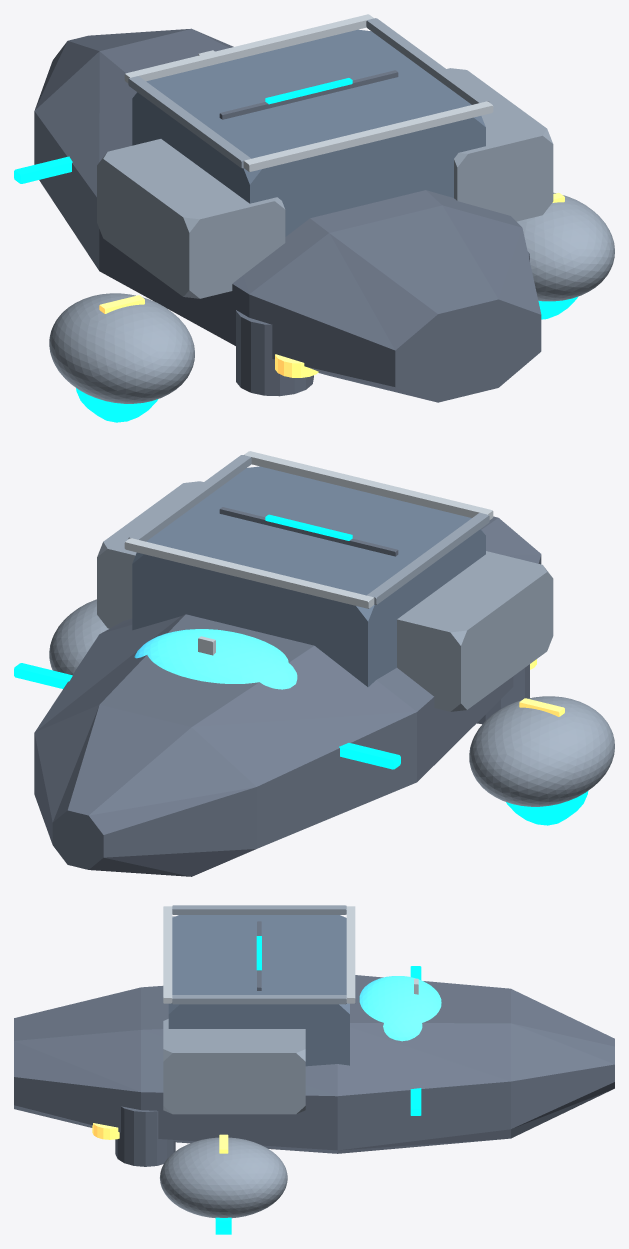
File: cargo_skimmer.glb
3 renders of one model, top to bottom at view 1: azimuth 30°, elevation 25°; view 2: azimuth 150°, elevation 25°; view 3: azimuth 270°, elevation 25°, orthographic. The views are drawn at different scales.
Parts seen in each view (by area): view 1: Ceramic_titanium, Brushed_alloy, Blue_titanium_facade, Edge_titanium, Cyan_lightguide, Amber_signal; view 2: Ceramic_titanium, Brushed_alloy, Blue_titanium_facade, Edge_titanium, Ion_glass, Cyan_lightguide; view 3: Ceramic_titanium, Brushed_alloy, Blue_titanium_facade, Ion_glass, Edge_titanium, Cyan_lightguide, Amber_signal.
Boxes of the visible parts, x1,y1,x2,y2 form: Ceramic_titanium: (34,28,541,402); Brushed_alloy: (49,18,614,403); Blue_titanium_facade: (132,29,485,236); Edge_titanium: (124,14,493,171); Cyan_lightguide: (14,78,578,422); Amber_signal: (99,192,564,377); Ceramic_titanium: (34,507,541,876); Brushed_alloy: (49,455,614,806); Blue_titanium_facade: (132,466,485,686); Edge_titanium: (124,451,493,655); Ion_glass: (134,629,297,689); Cyan_lightguide: (14,514,588,825); Ceramic_titanium: (14,921,614,1166); Brushed_alloy: (160,905,346,1218); Blue_titanium_facade: (168,915,349,1066); Ion_glass: (359,976,441,1041); Edge_titanium: (163,906,418,1003); Cyan_lightguide: (215,936,421,1234); Amber_signal: (92,1123,228,1153).
Size of the model in its own units: 2.7 by 1.24 by 3.38.
Materials: 7 (7 with a texture image).
